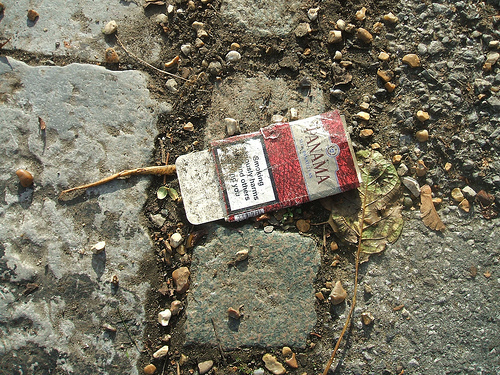litter: (174, 110, 360, 227)
